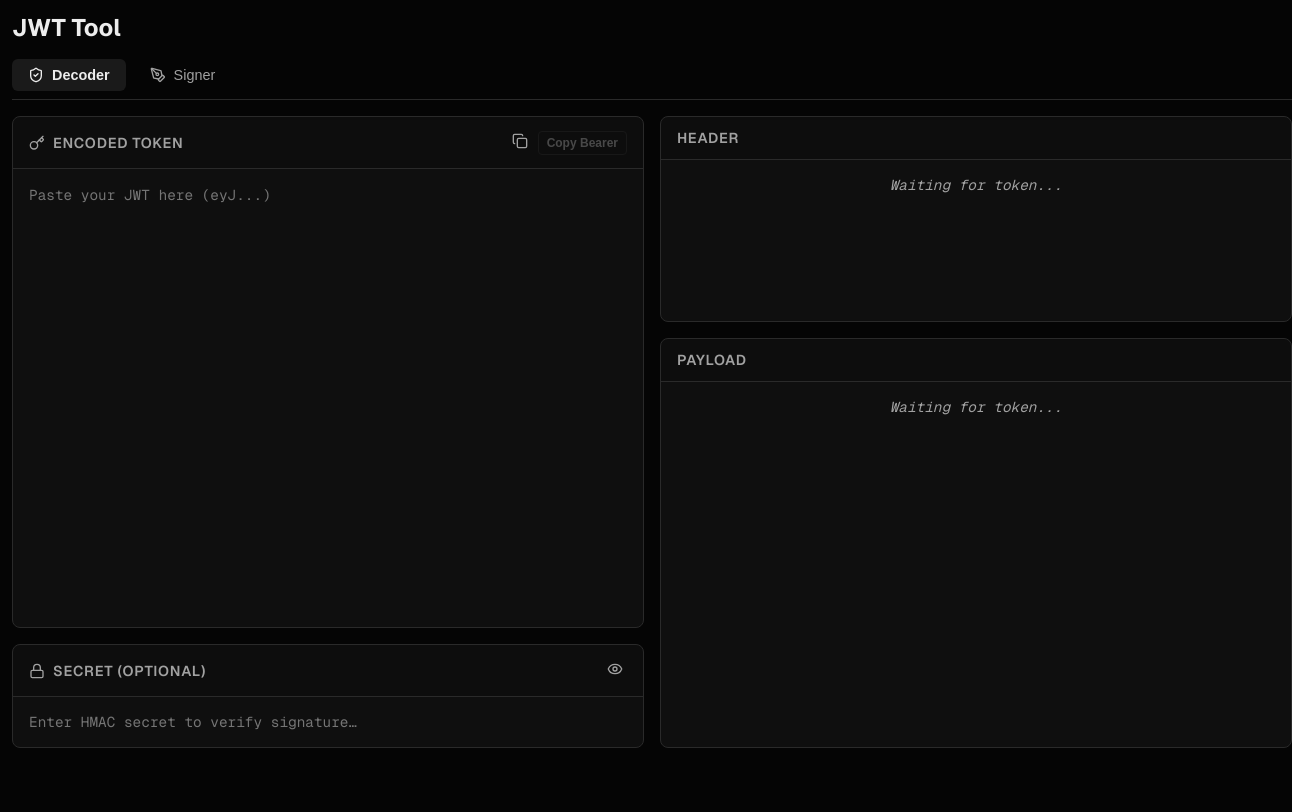
Test: JwtTool › shows invalid signature with wrong secret
The image size is (1292, 812).
Type "eyJhbGciOiJIUzI1NiIsInR5cCI6IkpXVCJ9.eyJzdWIiOiIxMjM0NTY3ODkwIiwibmFtZSI6IkpvaG4gRG9lIiwiaWF0IjoxNTE2MjM5MDIyfQ.XbPfbIHMI6arZ3Y922BhjWgQzWXcXNrz0ogtVhfEd2o" into the text box named "JWT token" at (328, 398), box [13,169,643,627]
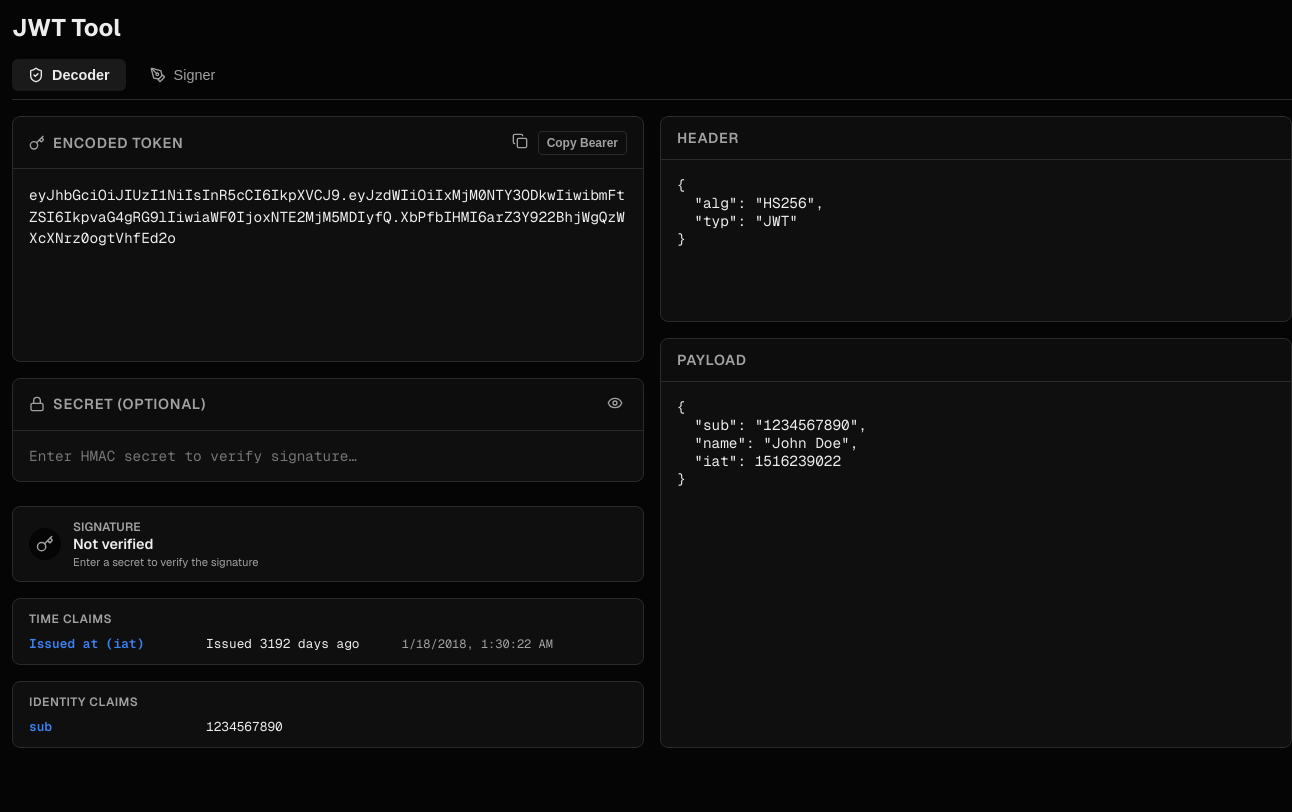
Type "wrong-secret" into the password field named "HMAC secret for verification" at (328, 456), box [13,431,643,481]
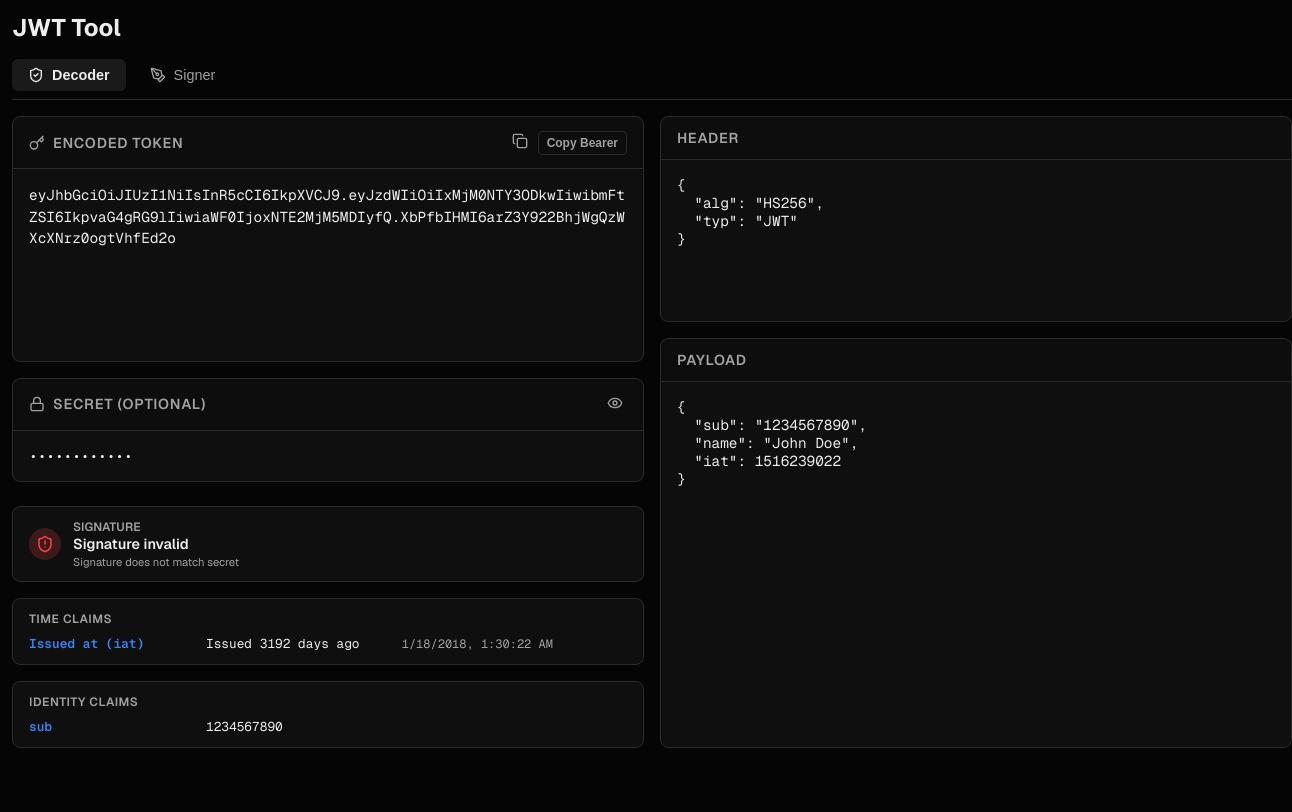
Check: the text "Signature invalid" is shown, box [73,535,189,553]
